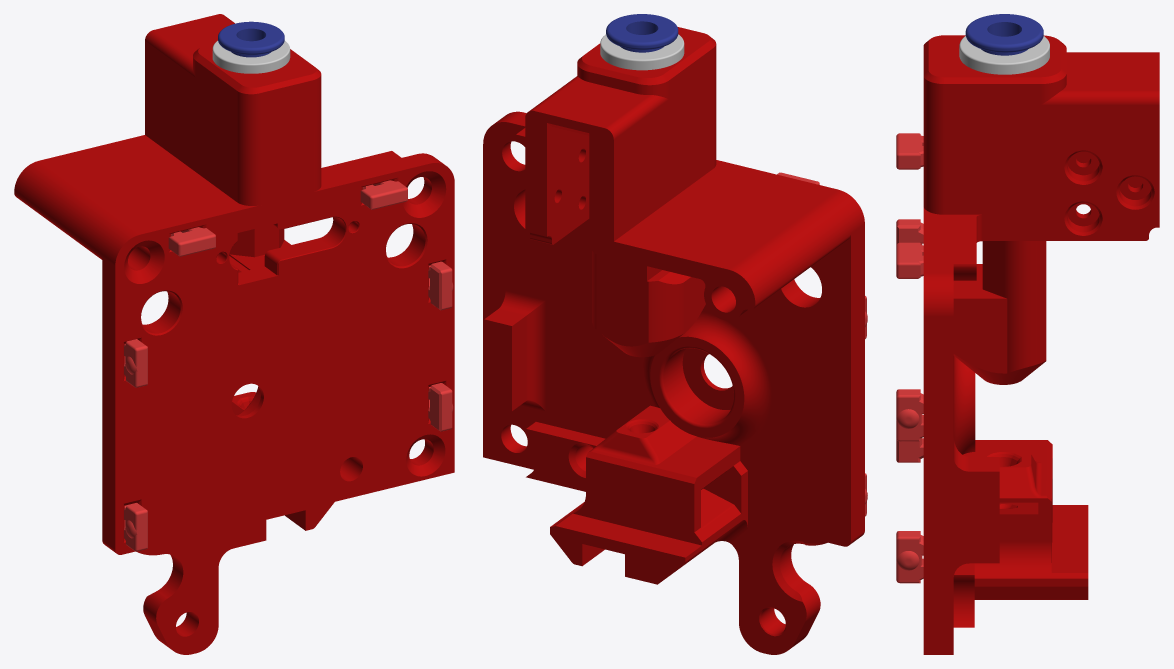
The model's file is extruder gear Box.glb.
3 views of the same model, side by side, from view 1: azimuth 30°, elevation 25°; view 2: azimuth 150°, elevation 25°; view 3: azimuth 270°, elevation 25° (orthographic). The views are drawn at different scales.
Bounding box in the file's own units: 0.0527 × 0.0847 × 0.0303.
